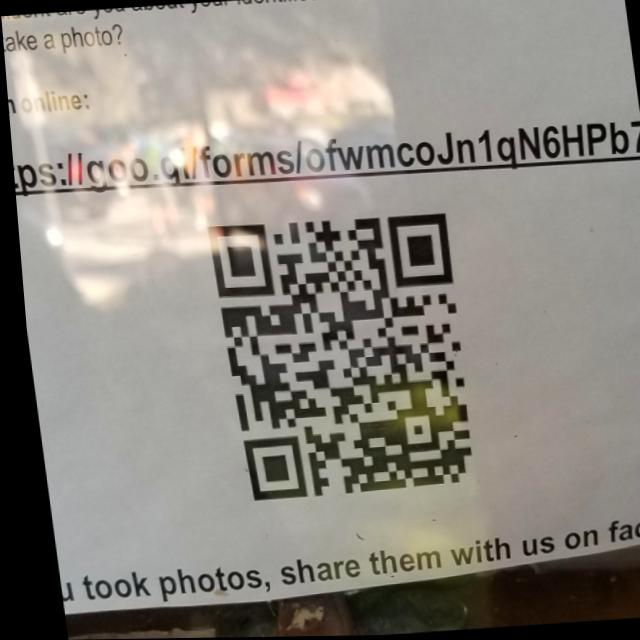QR_CODE: (183, 188, 481, 511)
